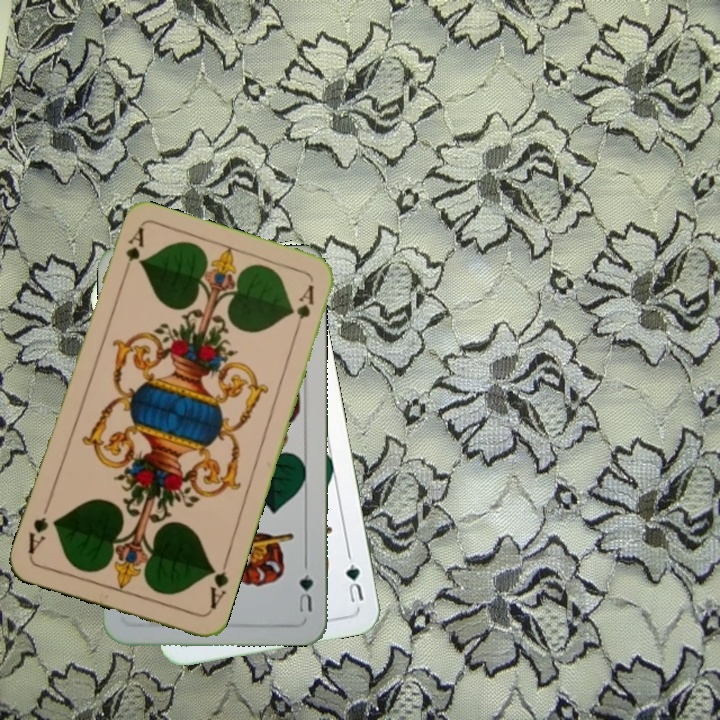GA: (118, 224, 146, 282), (205, 556, 232, 613)
GU: (295, 560, 316, 616), (341, 559, 366, 606)
